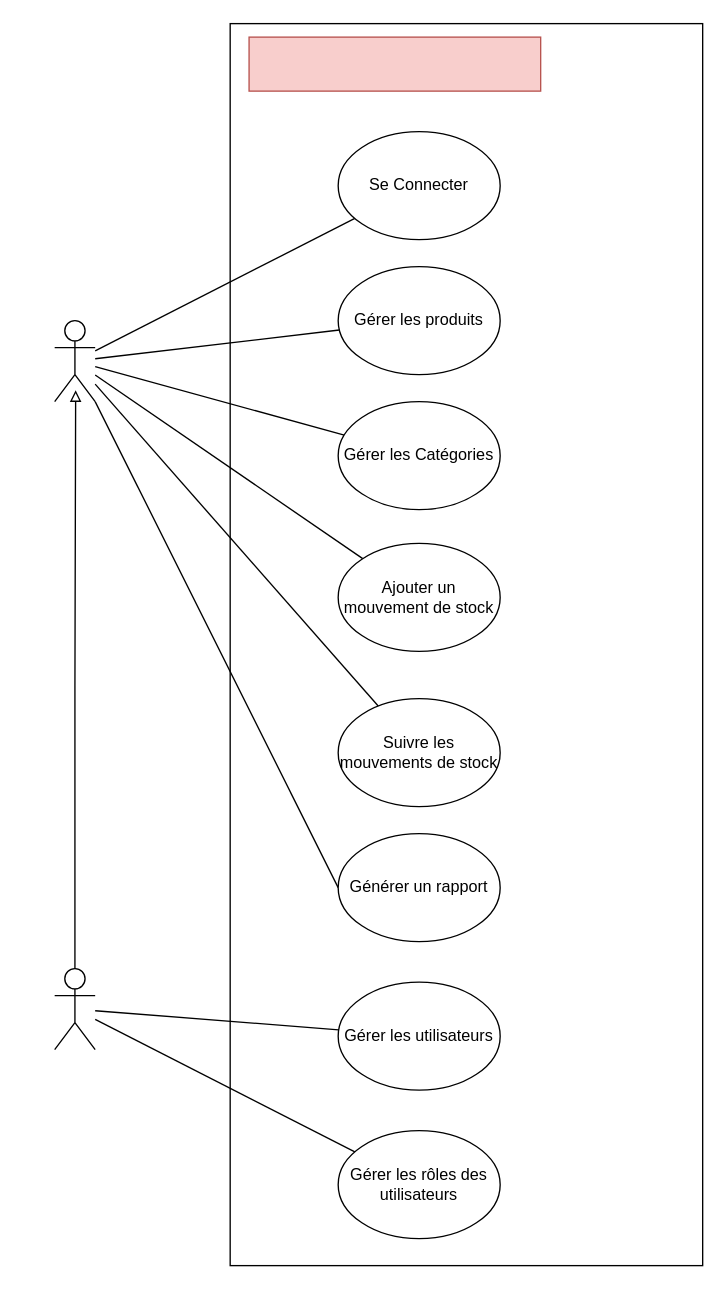
The diagram is 726 pixels wide and 1289 high, and some of its shapes have lost their labels. The shapes that lost their labels are listed below. From the top down, each one's box as (x1, y1, x2, y2) in pixels, then its label:
(248, 36, 541, 91): Système de gestion de stock
(53, 319, 95, 402): Utilisateur
(53, 967, 95, 1050): Administrateur
